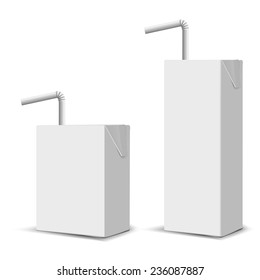carton: (16, 86, 140, 248), (156, 50, 250, 249)
